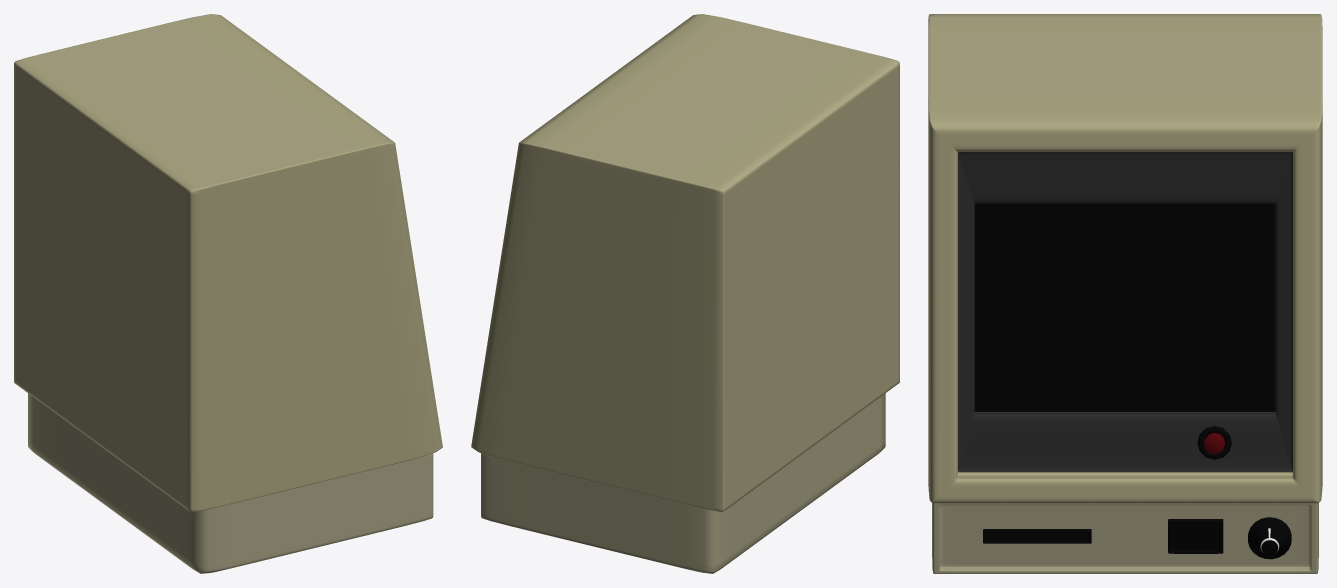
The model's file is Station Computer.fbx.
3 renders of one model, left to right at view 1: azimuth 30°, elevation 25°; view 2: azimuth 150°, elevation 25°; view 3: azimuth 270°, elevation 25°, orthographic. The views are drawn at different scales.
Visible parts, largest first — view 1: Computer, Cube; view 2: Computer, Cube; view 3: Computer, Cube, Cube.001, Cube.002, Cylinder, Frame.
Part boxes in pixels (x1=…): Computer: x1=14, y1=14, x2=442, y2=512; Cube: x1=28, y1=393, x2=433, y2=573; Computer: x1=471, y1=14, x2=899, y2=511; Cube: x1=481, y1=393, x2=885, y2=573; Computer: x1=928, y1=14, x2=1322, y2=503; Cube: x1=932, y1=503, x2=1318, y2=573; Cube.001: x1=1168, y1=519, x2=1223, y2=553; Cube.002: x1=983, y1=529, x2=1091, y2=543; Cylinder: x1=1248, y1=517, x2=1291, y2=559; Frame: x1=1197, y1=426, x2=1231, y2=459.
Bounding box in the file's own units: 65.76 × 94.55 × 78.49.
